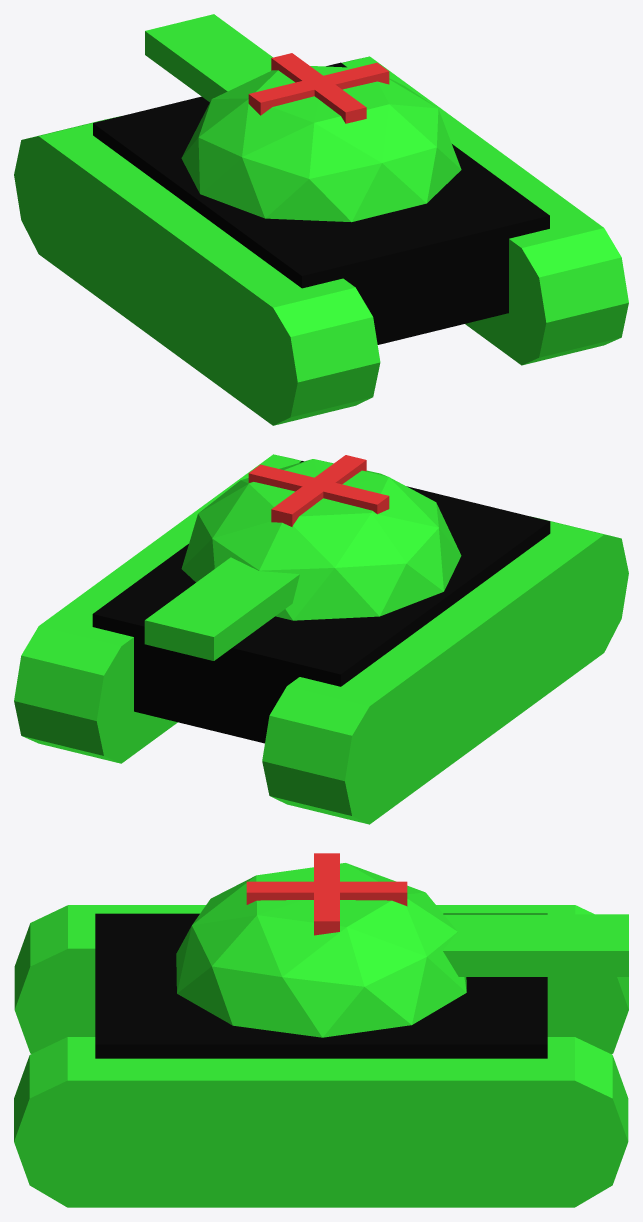
File: healUnit.fbx
3 renders of one model, top to bottom at view 1: azimuth 30°, elevation 25°; view 2: azimuth 150°, elevation 25°; view 3: azimuth 270°, elevation 25°, orthographic. The views are drawn at different scales.
Visible parts, largest first — view 1: Icosphere; view 2: Icosphere; view 3: Icosphere.
Part boxes in pixels (box(x1,y1,x2,y2)): Icosphere: box(14, 14, 628, 425); Icosphere: box(14, 454, 628, 824); Icosphere: box(14, 853, 628, 1207).
Size of the model in its own units: 3.68 by 2.29 by 5.48.
1 material, 1 textured.
